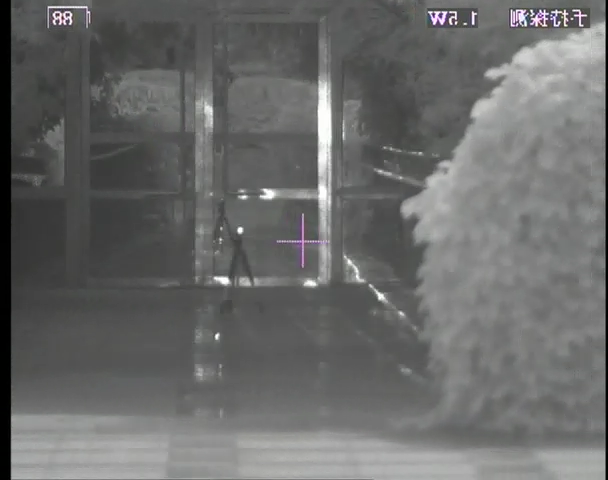my: (236, 225, 244, 236)
